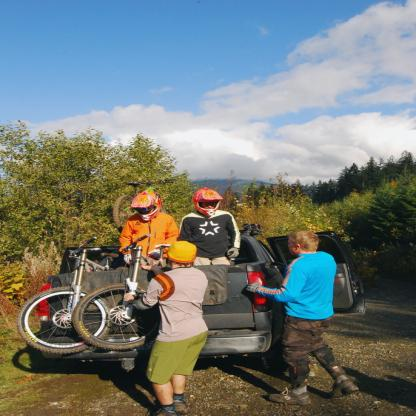Helmet: (129, 188, 161, 221), (191, 187, 228, 214), (161, 238, 196, 262)
